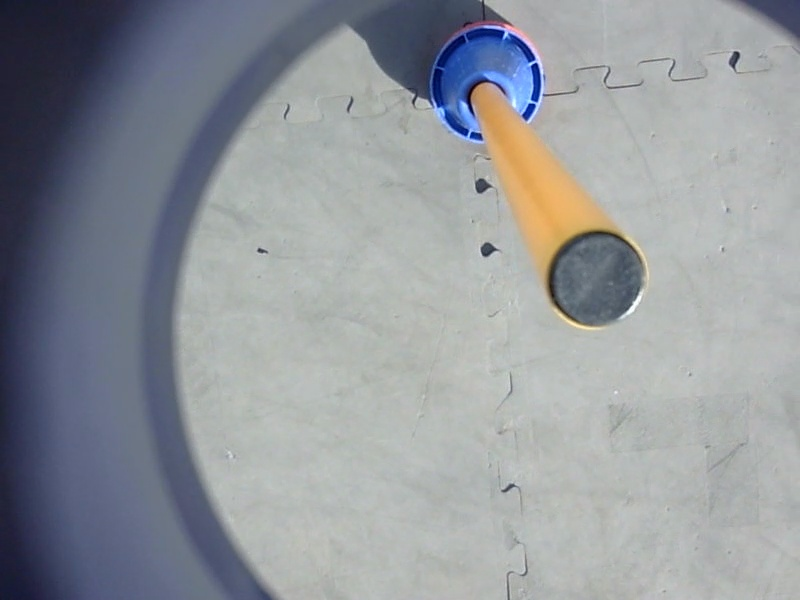tip: (537, 225, 654, 338)
